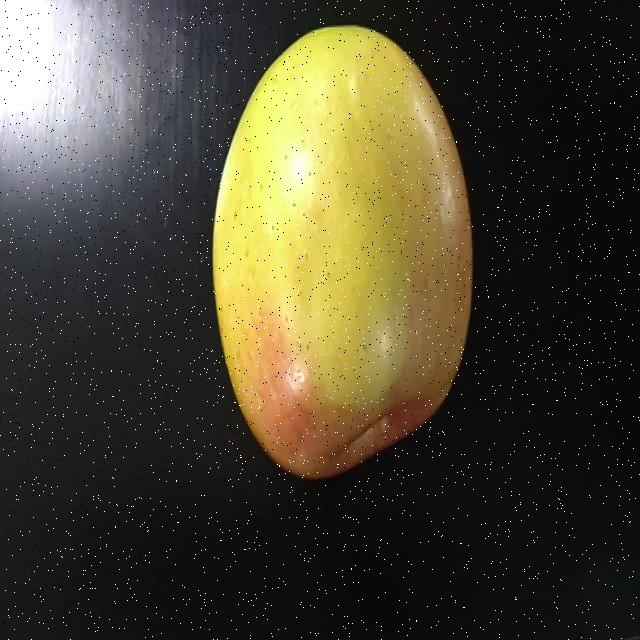Apel Merah: (193, 20, 484, 489)
